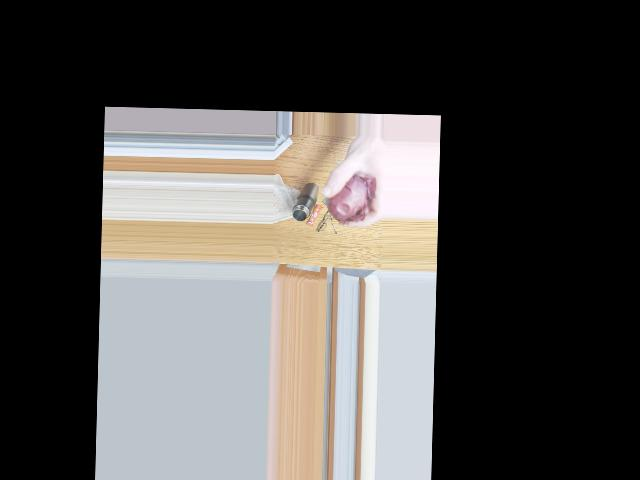onion: (326, 173, 371, 221)
